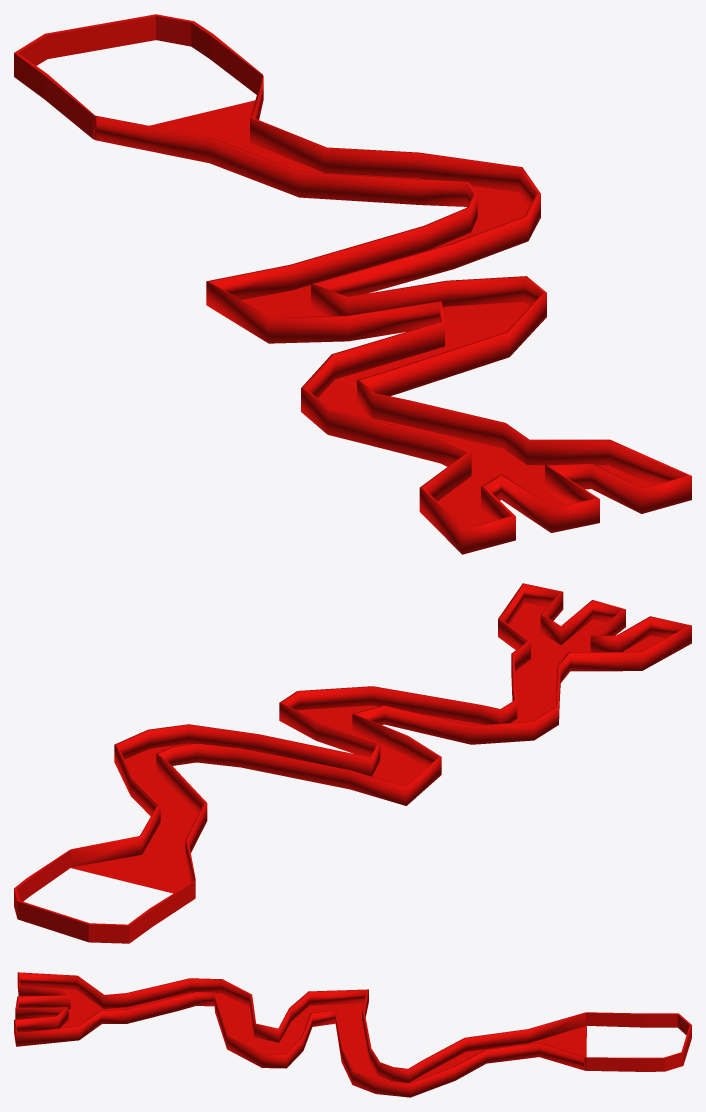
The model's file is ForestFloor_v2.fbx.
3 renders of one model, top to bottom at view 1: azimuth 30°, elevation 25°; view 2: azimuth 150°, elevation 25°; view 3: azimuth 270°, elevation 25°, orthographic. The views are drawn at different scales.
Parts seen in each view (by area): view 1: Invisible, Base; view 2: Invisible, Base; view 3: Invisible, Base.
Part boxes in pixels (x1,y1,x2,y2): Invisible: (14, 14, 691, 554); Base: (149, 100, 653, 528); Invisible: (14, 583, 691, 943); Base: (71, 602, 664, 893); Invisible: (14, 972, 691, 1097); Base: (60, 989, 586, 1083).
Size of the model in its own units: 43372 by 2622 by 110945.
